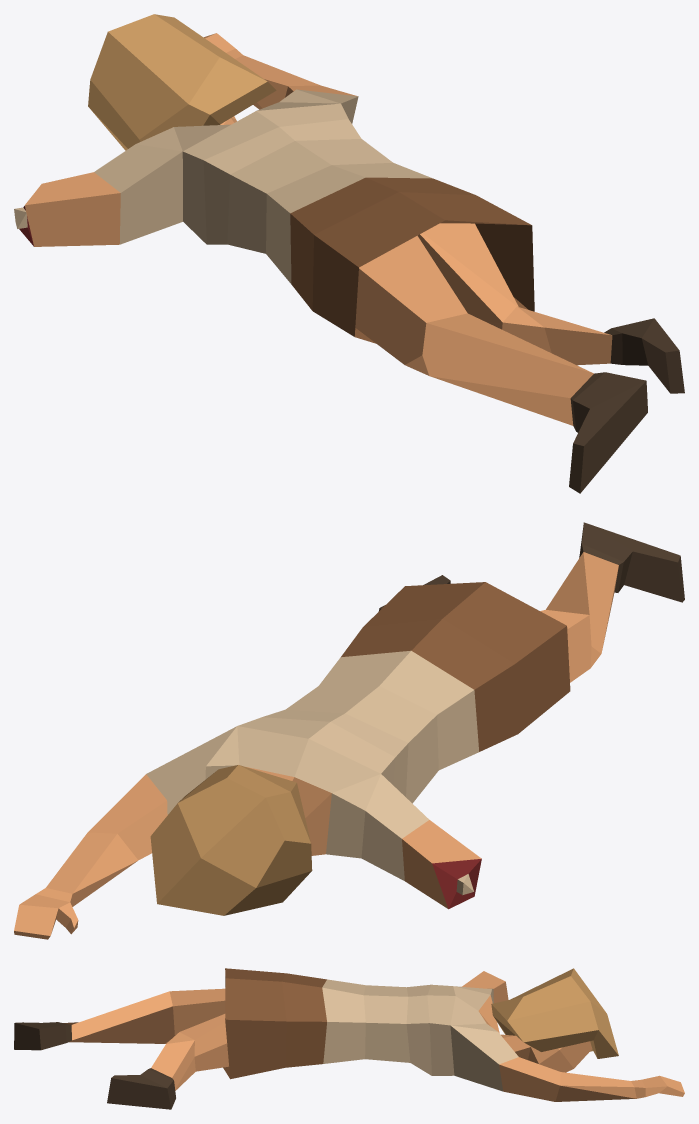
File: apocalypse-woman-casual-dead-b.glb
The picture shows the model from 3 angles, top to bottom: view 1: azimuth 30°, elevation 25°; view 2: azimuth 150°, elevation 25°; view 3: azimuth 270°, elevation 25°; orthographic projection. The views are drawn at different scales.
Parts seen in each view (by area): view 1: woman-casual-dead-b; view 2: woman-casual-dead-b; view 3: woman-casual-dead-b.
Part boxes in pixels (x1=…): woman-casual-dead-b: x1=14, y1=14, x2=684, y2=493; woman-casual-dead-b: x1=14, y1=522, x2=684, y2=939; woman-casual-dead-b: x1=14, y1=968, x2=684, y2=1109.
Size of the model in its own units: 0.8129 by 0.321 by 2.07.
